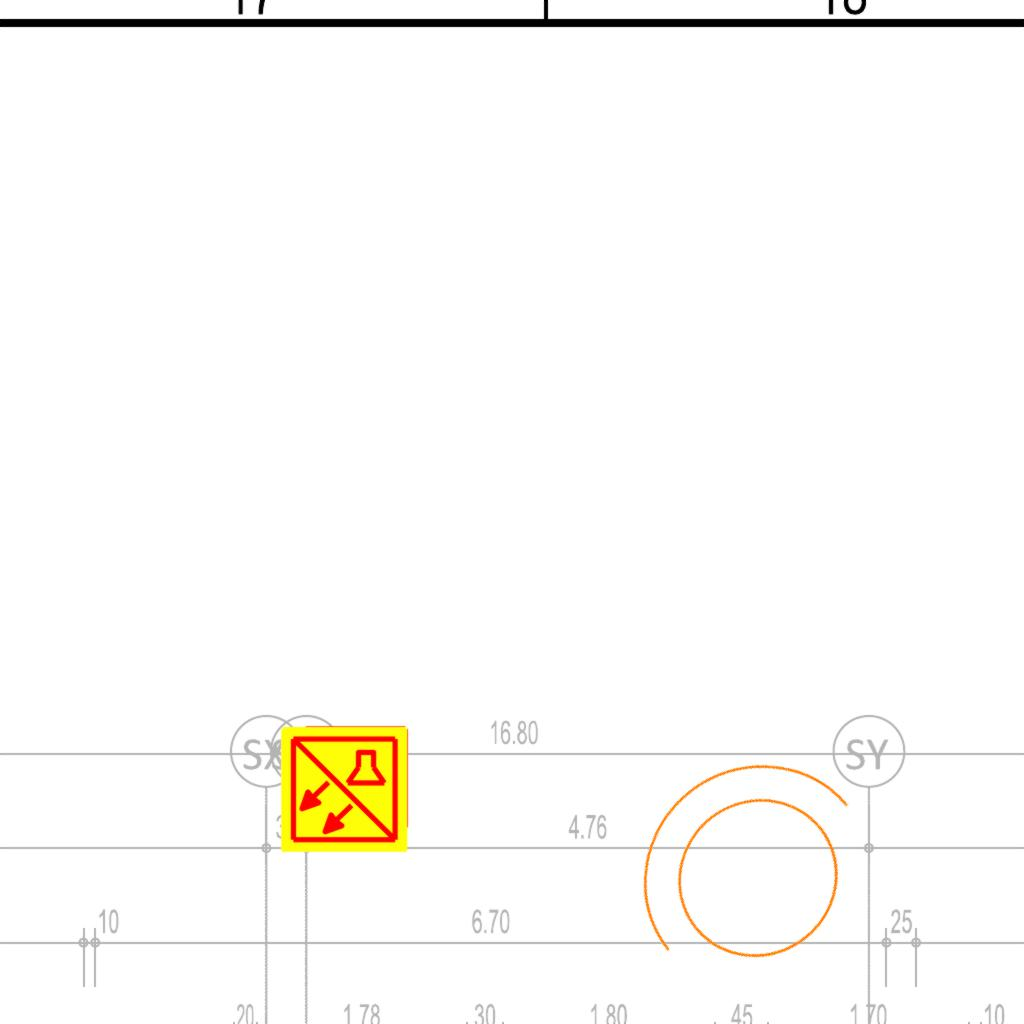OKW_Multisensormelder_(Kombination_optischer_Rauch-Kahlenmonoxid_Waerme-Melder): (278, 723, 410, 855)
Scheinwerfer_fuer_Alarmbeleuchtung: (573, 704, 921, 1024)
